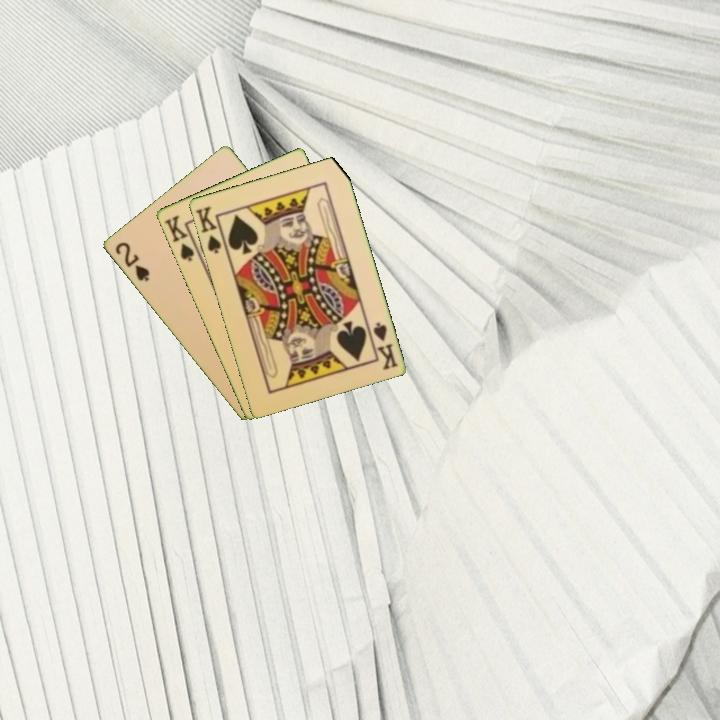2s: (111, 238, 152, 284)
Ks: (160, 212, 202, 264), (191, 202, 224, 256), (369, 318, 401, 373)
